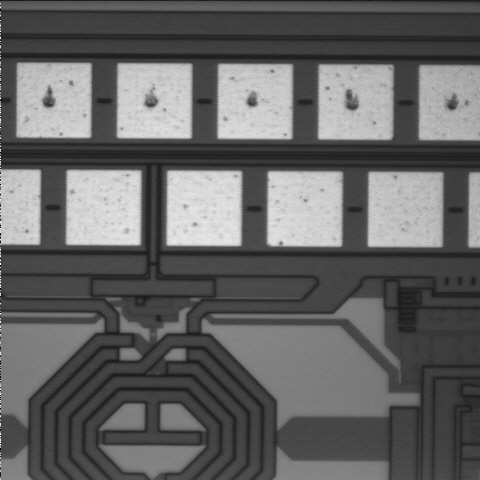pad: (66, 170, 141, 245), (17, 63, 91, 138), (218, 64, 292, 139), (167, 171, 241, 246), (267, 172, 342, 246), (117, 64, 191, 138), (368, 173, 442, 247), (319, 65, 392, 139)
